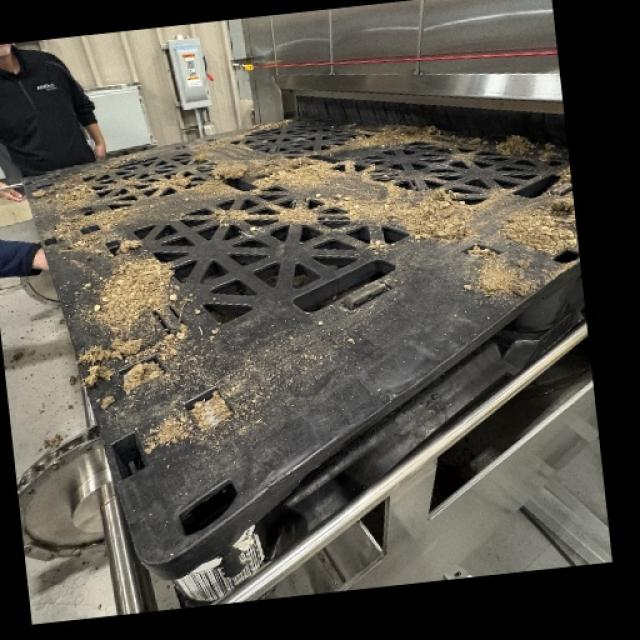igps: (17, 109, 640, 612)
